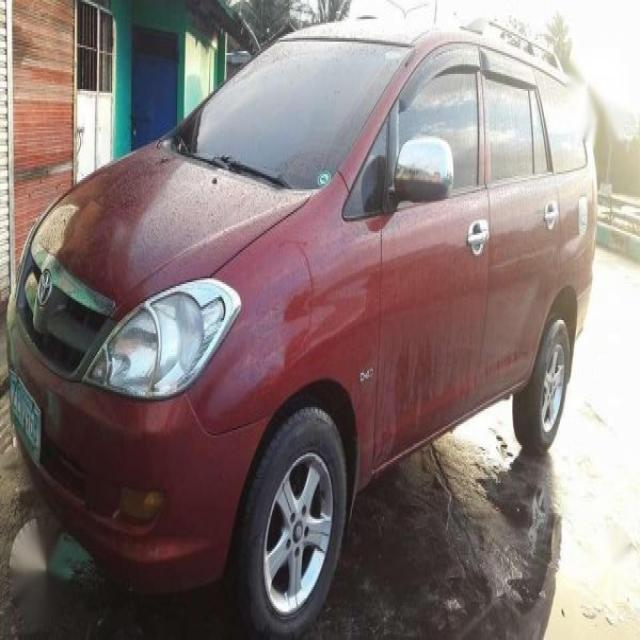light_vehicle: (5, 8, 598, 628)
